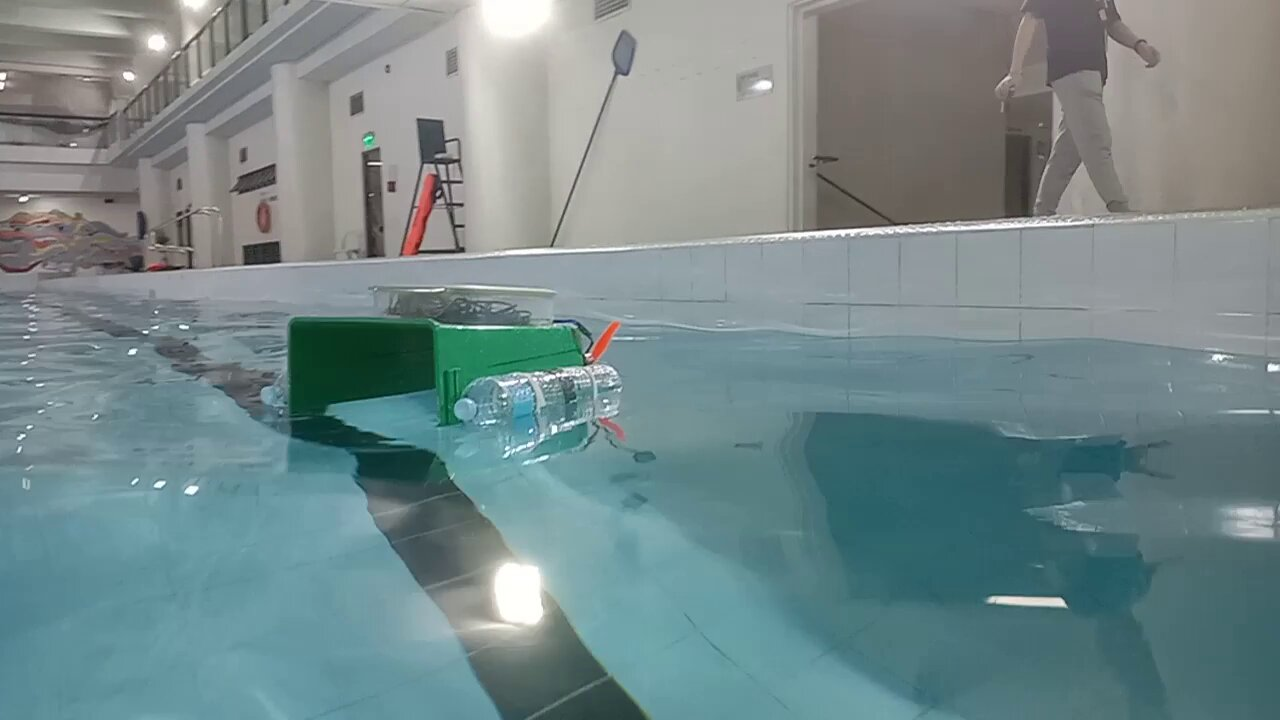drone: (284, 285, 624, 433)
